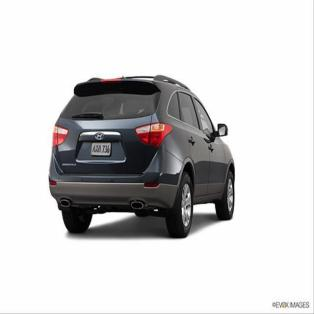Auto: (48, 74, 236, 239)
